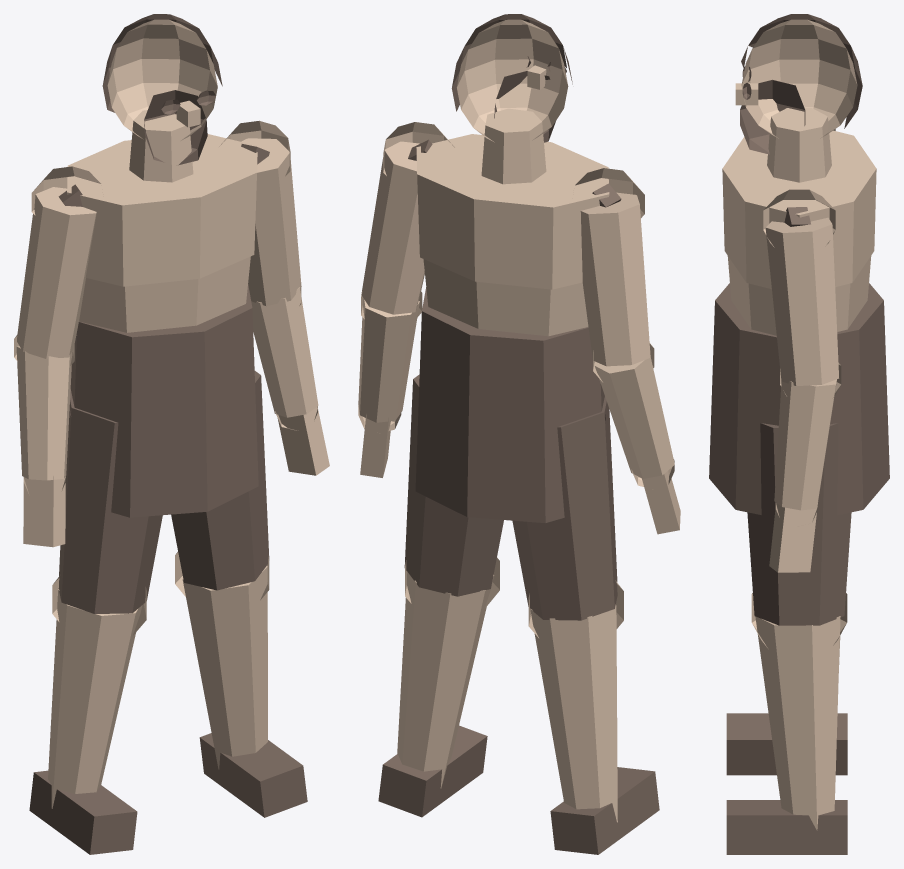
Rendered from low-poly-character-figures-barbarian-standing-50b9ac09__36377.glb.
The picture shows the model from 3 angles, left to right: view 1: azimuth 30°, elevation 25°; view 2: azimuth 150°, elevation 25°; view 3: azimuth 270°, elevation 25°; orthographic projection.
Visible parts, largest first — view 1: barbarian-standing; view 2: barbarian-standing; view 3: barbarian-standing.
Part boxes in pixels (x1,y1,x2,y2): barbarian-standing: (14,14,329,854); barbarian-standing: (358,14,680,854); barbarian-standing: (709,14,889,854).
Size of the model in its own units: 0.7754 by 1.89 by 0.3929.
